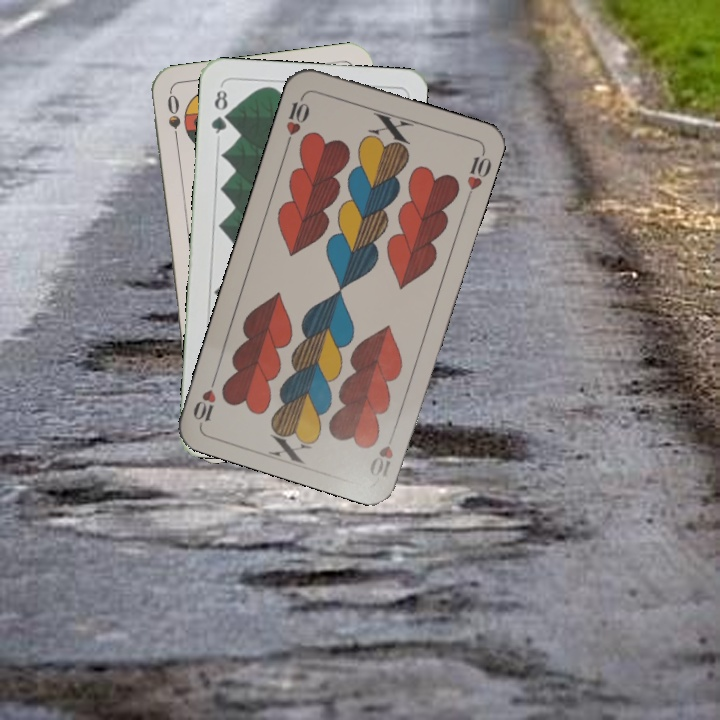G8: (207, 82, 232, 136)
H10: (365, 424, 399, 480), (282, 91, 312, 148)
SO: (163, 90, 183, 149)
